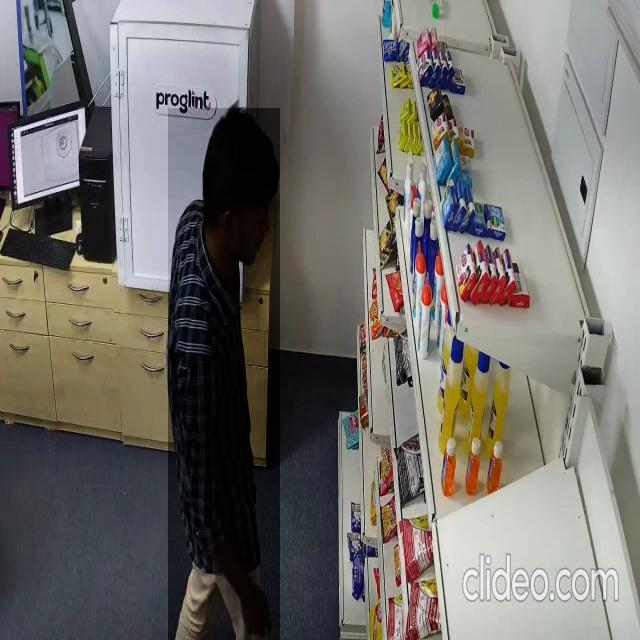normal: (168, 108, 280, 640)
